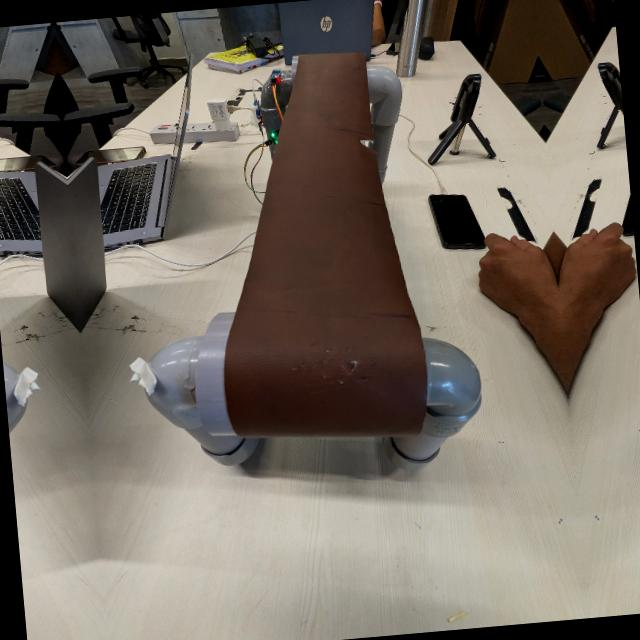belt_crack: (278, 332, 387, 399)
belt_tear: (353, 127, 381, 158)
